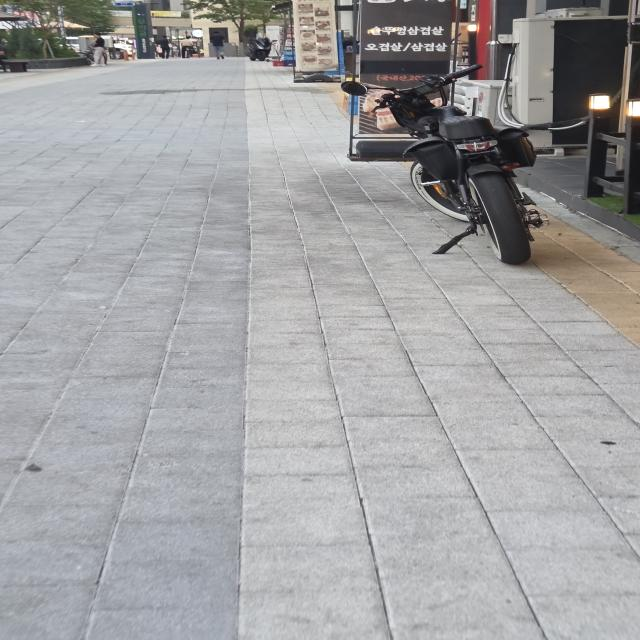motorcycle: (307, 48, 621, 286)
